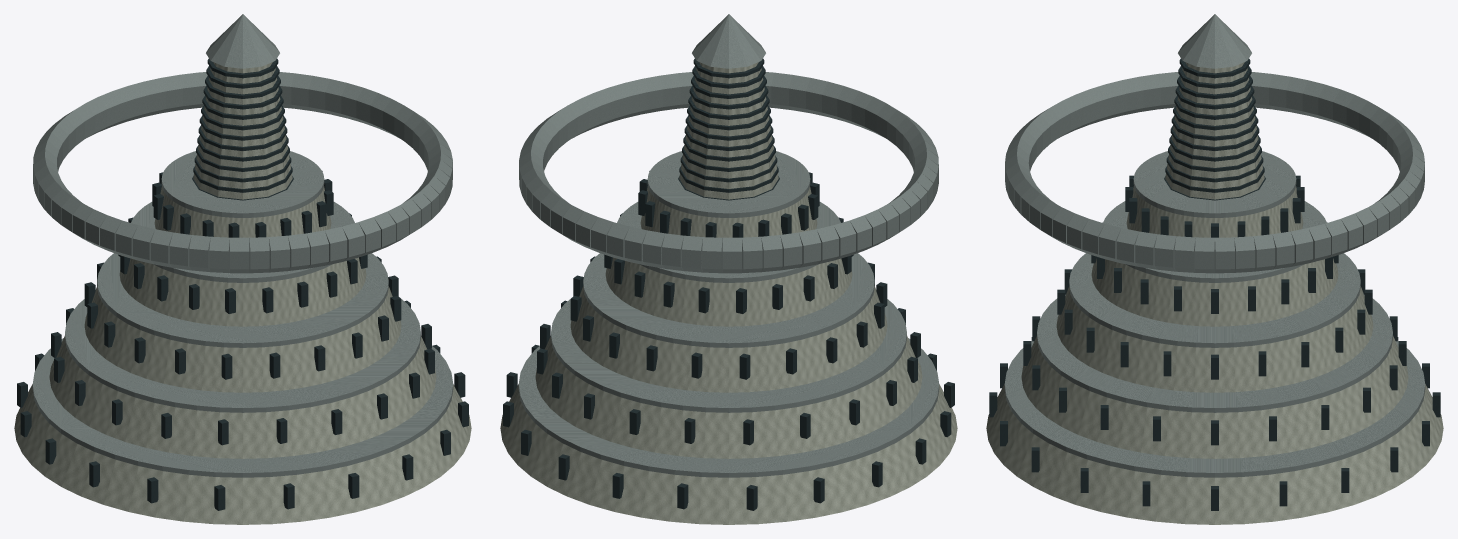
File: protector_sanctum_01.fbx
3 renders of one model, left to right at view 1: azimuth 30°, elevation 25°; view 2: azimuth 150°, elevation 25°; view 3: azimuth 270°, elevation 25°, orthographic.
Visible parts, largest first — view 1: protector_sanctum_01_LOD0; view 2: protector_sanctum_01_LOD0; view 3: protector_sanctum_01_LOD0.
Part boxes in pixels (left/top/right/bottom): protector_sanctum_01_LOD0: left=14, top=14, right=471, bottom=524; protector_sanctum_01_LOD0: left=500, top=14, right=957, bottom=524; protector_sanctum_01_LOD0: left=986, top=14, right=1443, bottom=524.
Size of what is drawn, in the model's own units: 1 by 1 by 1.
